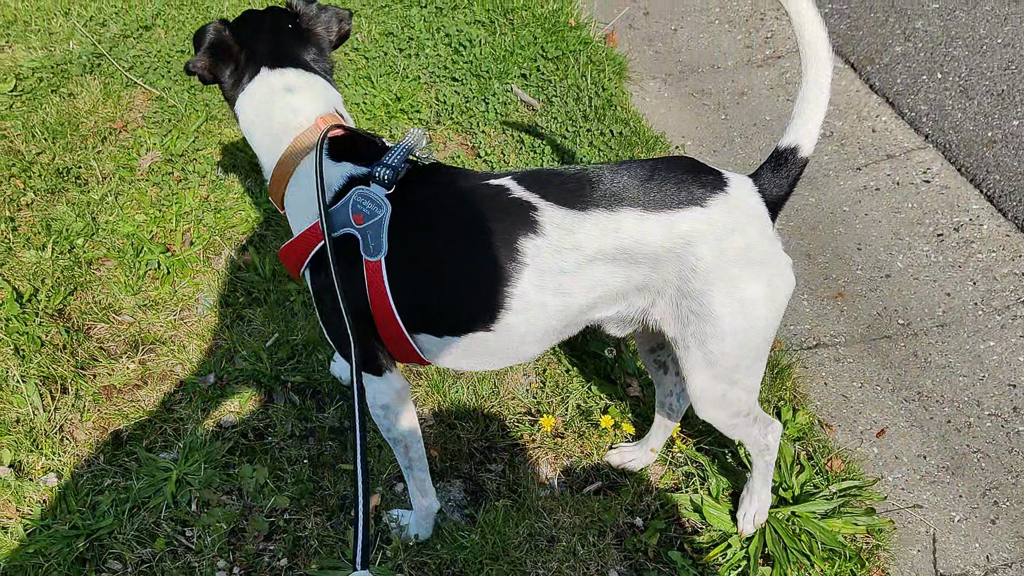Dog: (164, 0, 864, 550)
